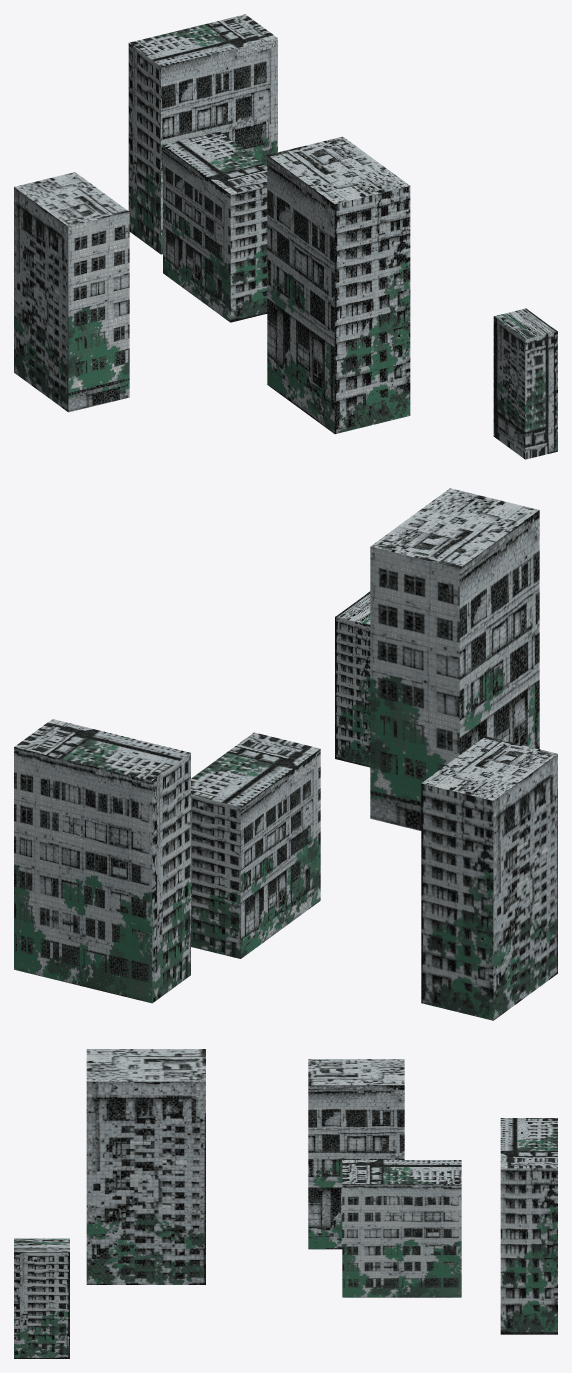
File: Buildings.fbx
3 views of the same model, one above another, from view 1: azimuth 30°, elevation 25°; view 2: azimuth 150°, elevation 25°; view 3: azimuth 270°, elevation 25° (orthographic). The views are drawn at different scales.
Parts seen in each view (by area): view 1: Cube.003, Cube.017, Cube.018, Cube.014, Cube; view 2: Cube.003, Cube.018, Cube.017, Cube.014, Cube; view 3: Cube.003, Cube.014, Cube.017, Cube.018, Cube.
Boxes of the visible parts, x1,y1,x2,y2 form: Cube.003: (267,136,410,433); Cube.017: (14,172,129,412); Cube.018: (128,14,277,254); Cube.014: (163,131,267,322); Cube: (493,308,557,459); Cube.003: (370,488,539,830); Cube.018: (14,719,190,1003); Cube.017: (421,736,557,1020); Cube.014: (191,732,320,958); Cube: (335,591,370,767); Cube.003: (86,1049,205,1284); Cube.014: (342,1160,461,1297); Cube.017: (308,1059,404,1249); Cube.018: (500,1118,557,1334); Cube: (14,1238,69,1358).
Size of the model in its own units: 1204 by 946 by 1987.
Materials: 1 (1 with a texture image).
